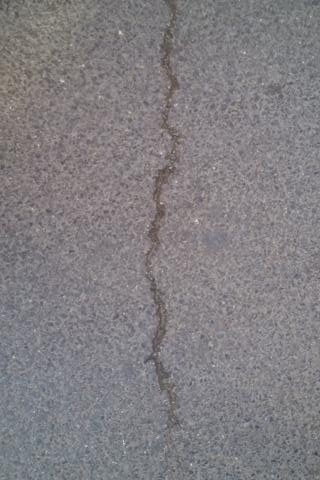A: (143, 2, 185, 436)
